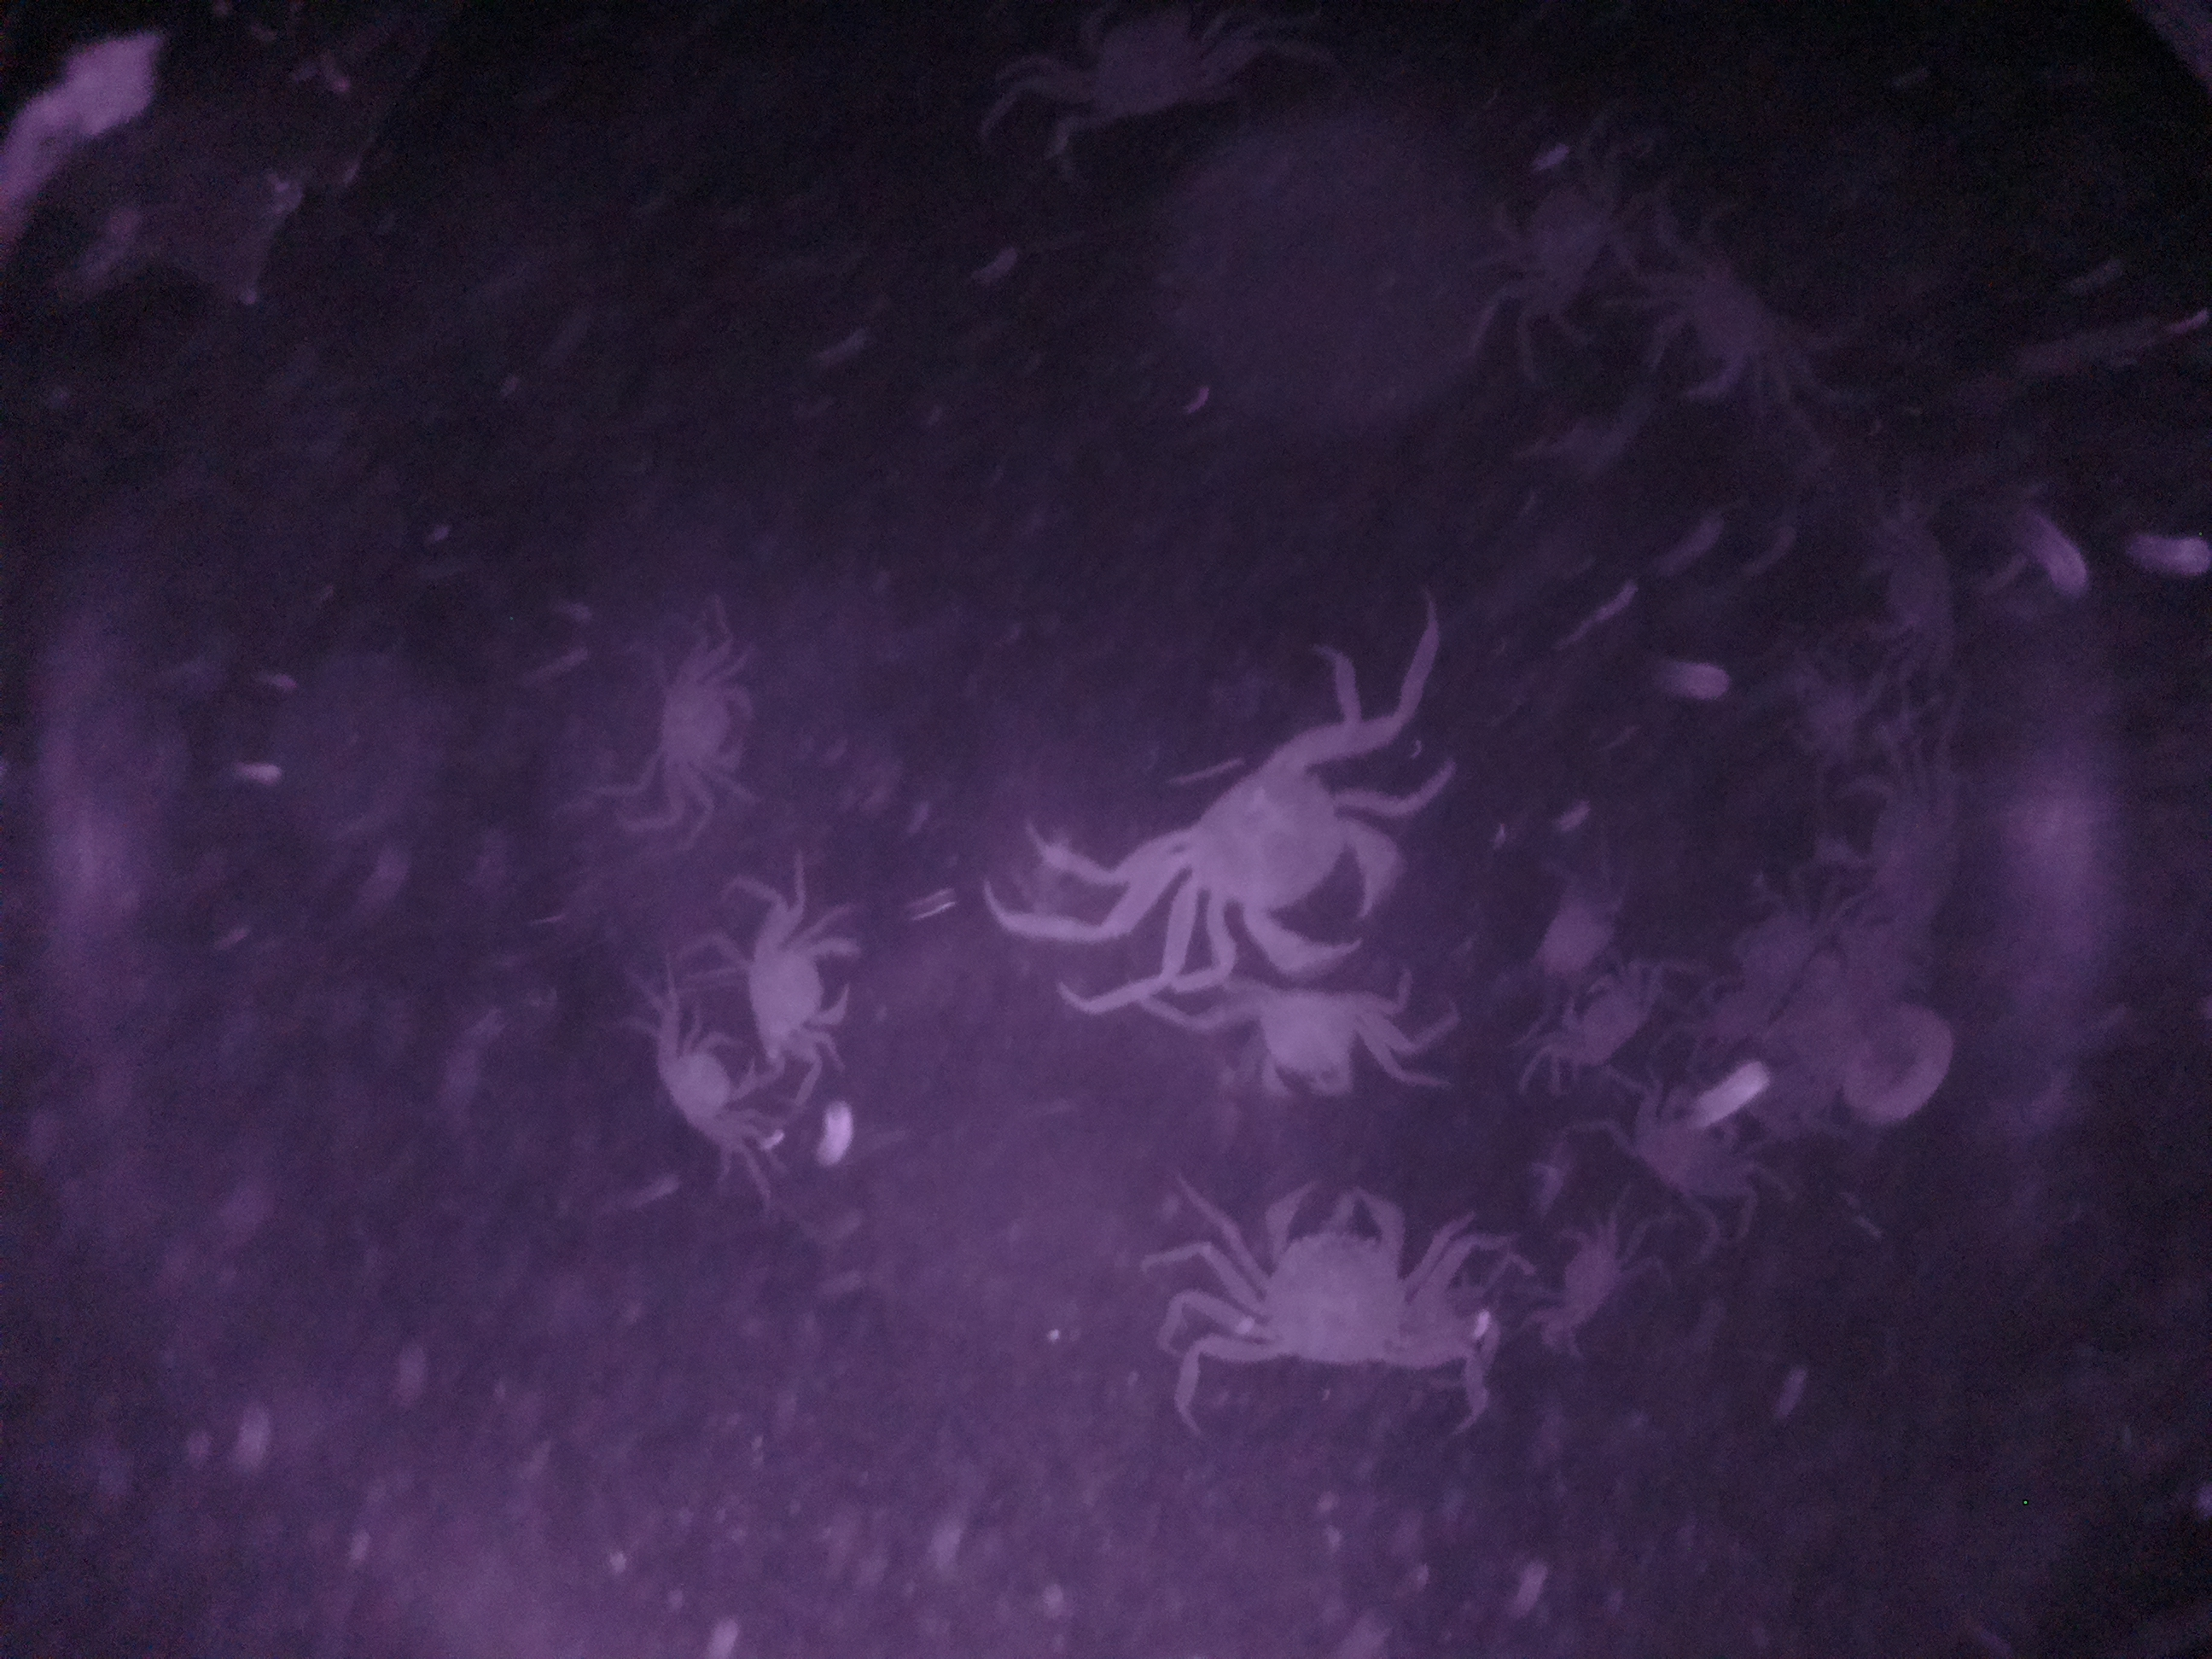Crab: (1139, 732, 1409, 986), (1224, 1168, 1449, 1384), (1630, 227, 1829, 418), (732, 906, 874, 1079), (650, 988, 773, 1175), (648, 643, 768, 828), (1531, 950, 1662, 1086), (1531, 1218, 1641, 1342)
